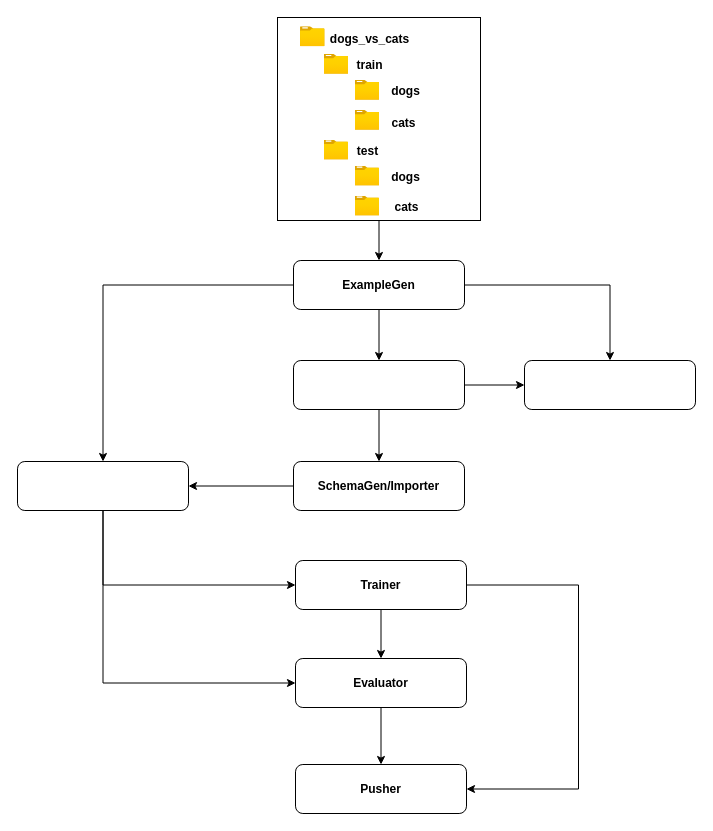
This 713x831 diagram has some shape labels left out. The centre of each missing label's shape, as x and y in pixels:
Example Validator: the point at 610,385
StatisticsGen: the point at 378,385
Transform: the point at 102,485
